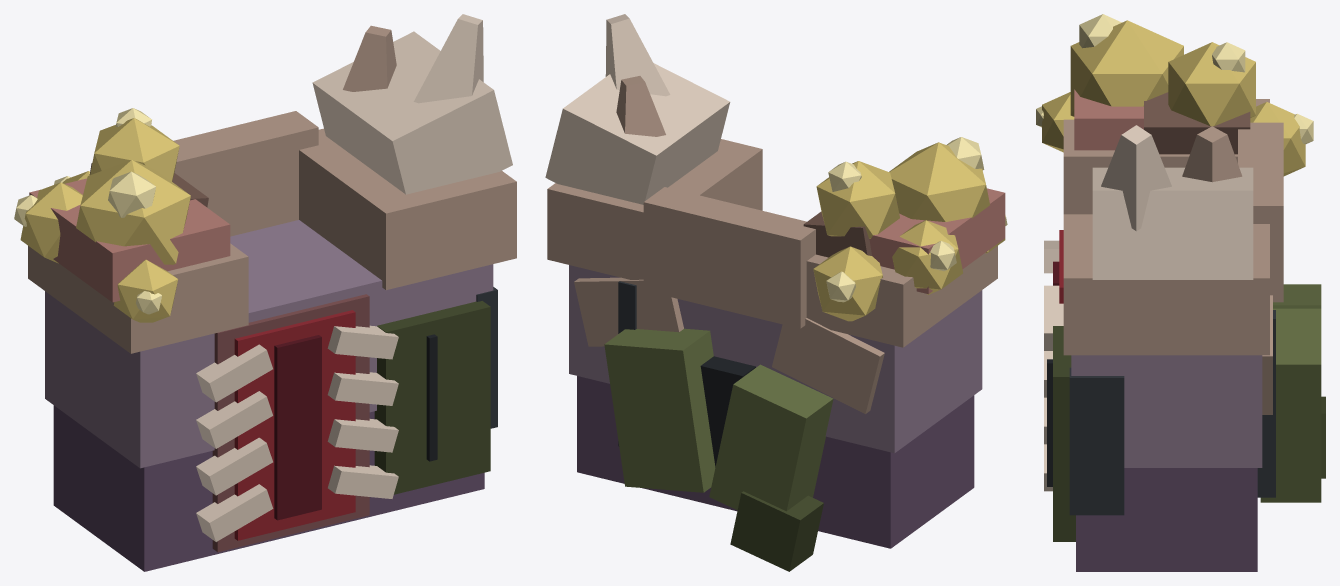
The model's file is inf_v2_brute_upper_torso.fbx.
3 views of the same model, side by side, from view 1: azimuth 30°, elevation 25°; view 2: azimuth 150°, elevation 25°; view 3: azimuth 270°, elevation 25° (orthographic). The views are drawn at different scales.
Parts seen in each view (by area): view 1: inf_v2_brute_upper_torso; view 2: inf_v2_brute_upper_torso; view 3: inf_v2_brute_upper_torso.
Boxes of the visible parts, left/top/right/bottom form: inf_v2_brute_upper_torso: left=14, top=14, right=516, bottom=571; inf_v2_brute_upper_torso: left=545, top=14, right=1007, bottom=571; inf_v2_brute_upper_torso: left=1036, top=14, right=1325, bottom=571.
Size of the model in its own units: 329 by 340 by 191.
